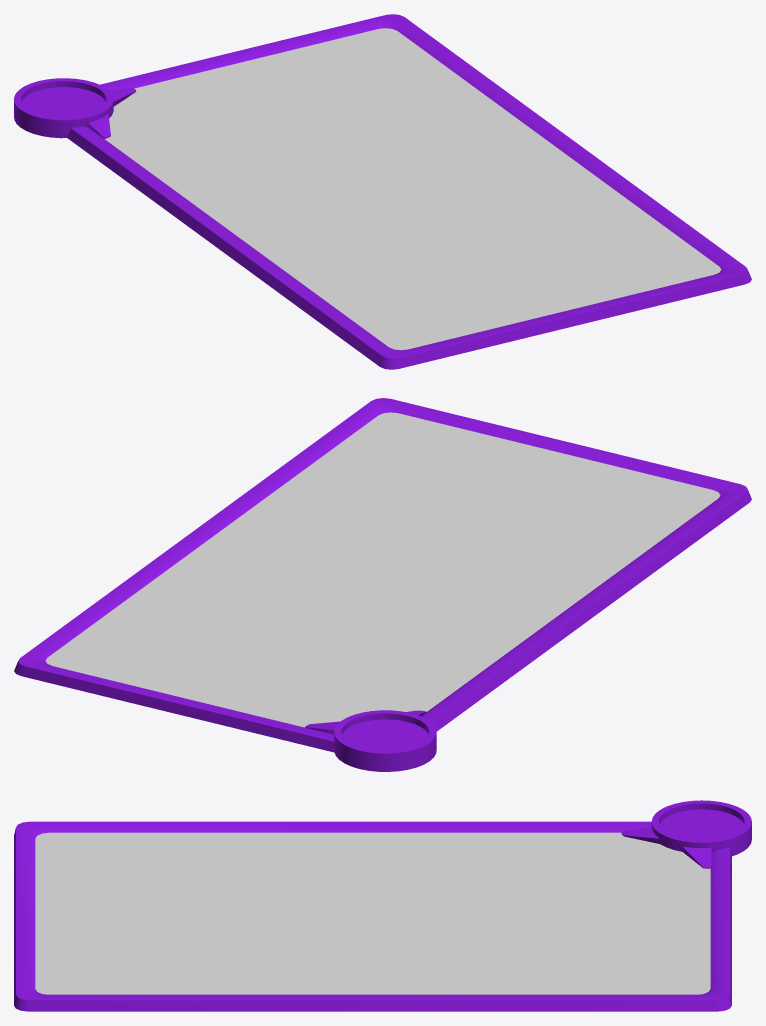
Rendered from Card.fbx.
3 views of the same model, one above another, from view 1: azimuth 30°, elevation 25°; view 2: azimuth 150°, elevation 25°; view 3: azimuth 270°, elevation 25° (orthographic). The views are drawn at different scales.
Parts seen in each view (by area): view 1: Image, Frame; view 2: Image, Frame; view 3: Image, Frame.
Part boxes in pixels (x1,y1,x2,y2): Image: (105, 28, 721, 350); Frame: (14, 14, 751, 369); Image: (45, 412, 720, 727); Frame: (14, 398, 751, 771); Image: (35, 832, 710, 994); Frame: (14, 800, 751, 1011).
Size of the model in its own units: 211 by 9.12 by 339.
